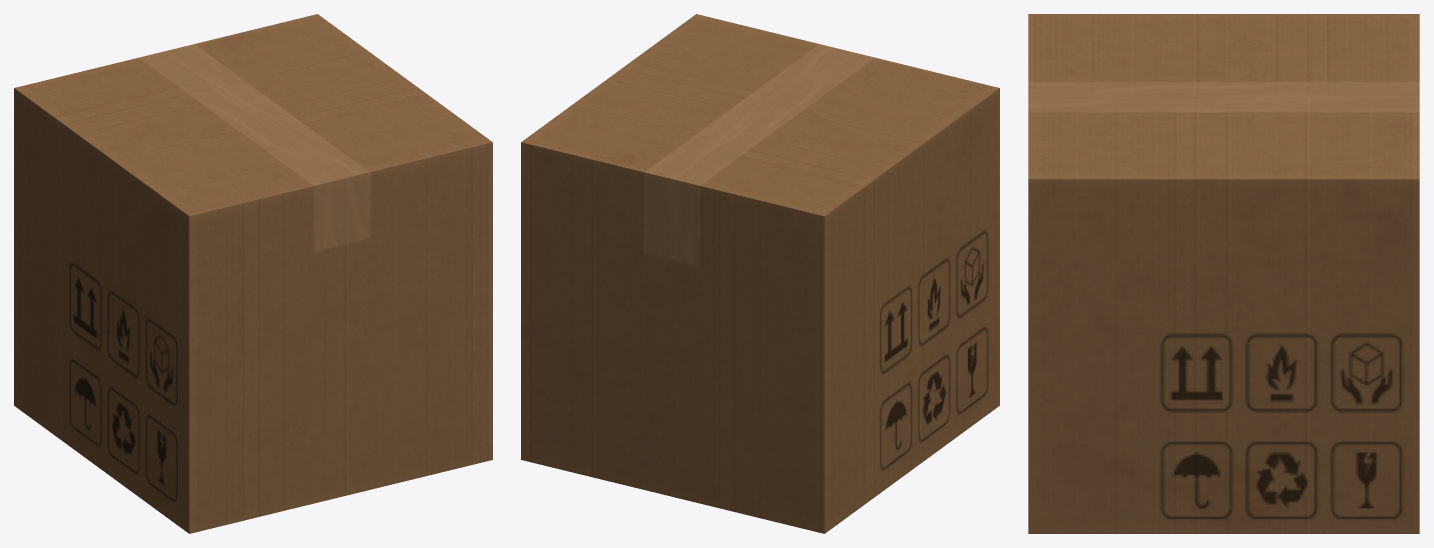
File: CardBoard_Box_01.fbx
The picture shows the model from 3 angles, left to right: view 1: azimuth 30°, elevation 25°; view 2: azimuth 150°, elevation 25°; view 3: azimuth 270°, elevation 25°; orthographic projection. The views are drawn at different scales.
Parts seen in each view (by area): view 1: CardBoard-1; view 2: CardBoard-1; view 3: CardBoard-1.
Boxes of the visible parts, x1,y1,x2,y2 form: CardBoard-1: (14, 14, 492, 533); CardBoard-1: (521, 14, 999, 533); CardBoard-1: (1028, 14, 1419, 533).
Size of the model in its own units: 45.72 by 45.72 by 45.72.
